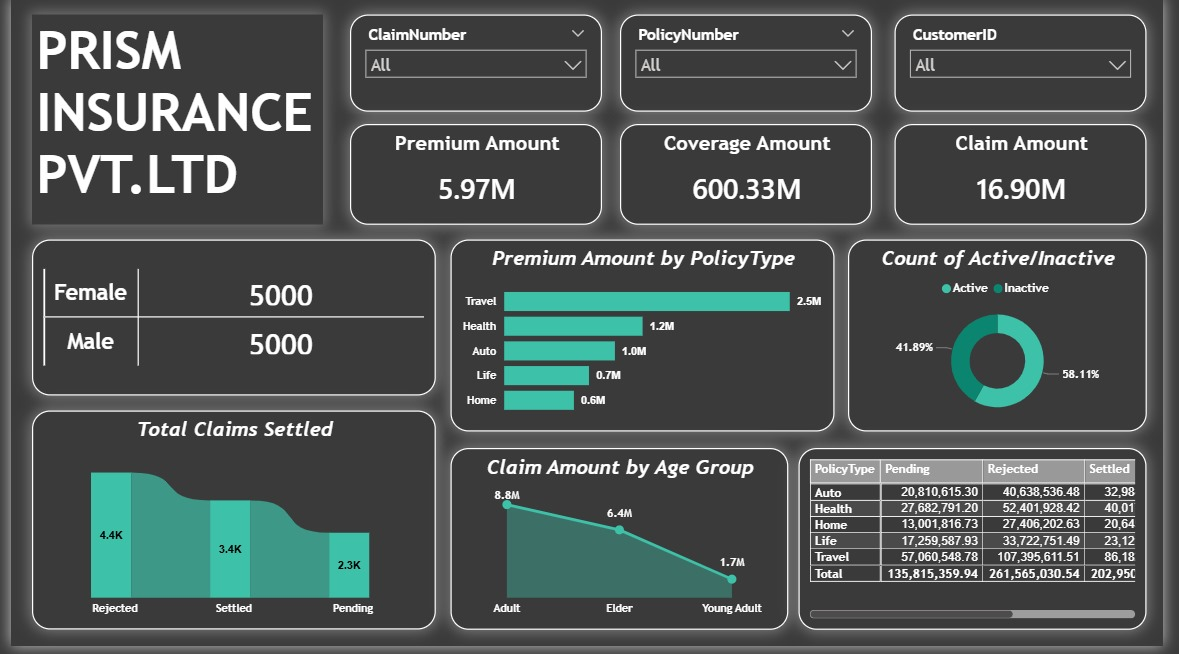

The dashboard page shown, as its layout file describes it:
{"tool":"powerbi","page":{"name":"Page 1","canvas":[1280,720],"ordinal":0},"visuals":[{"type":"slicer","fields":{"Values":["InsuranceData.CustomerID"]},"box":[982,18,280,108],"z":0},{"type":"slicer","fields":{"Values":["InsuranceData.ClaimNumber"]},"box":[376,18,280,108],"z":1},{"type":"slicer","fields":{"Values":["InsuranceData.PolicyNumber"]},"box":[676,18,280,108],"z":2},{"type":"textbox","box":[23.3,18.3,323.3,233.3],"z":3},{"type":"cardVisual","title":"Claim Amount","fields":{"Data":["Sum(InsuranceData.ClaimAmount)"]},"box":[981.7,140,280,111.7],"z":4},{"type":"cardVisual","title":"Coverage Amount","fields":{"Data":["Sum(InsuranceData.CoverageAmount)"]},"box":[676.7,140,280,111.7],"z":5},{"type":"cardVisual","title":"Premium Amount","fields":{"Data":["Sum(InsuranceData.PremiumAmount)"]},"box":[376.7,140,280,111.7],"z":6},{"type":"cardVisual","fields":{"Rows":["InsuranceData.Gender"],"Data":["CountNonNull(InsuranceData.Gender)"]},"box":[23.3,268.3,448.3,173.3],"z":7},{"type":"ribbonChart","title":"Total Claims Settled","fields":{"Category":["InsuranceData.ClaimStatus"],"Y":["CountNonNull(InsuranceData.ClaimStatus)"]},"box":[23.3,458.3,448.3,243.3],"z":8},{"type":"clusteredBarChart","title":"Premium Amount by PolicyType","fields":{"Y":["Sum(InsuranceData.PremiumAmount)"],"Category":["InsuranceData.PolicyType"]},"box":[488.3,268.3,426.7,213.3],"z":9},{"type":"lineChart","title":"Claim Amount by Age Group","fields":{"Category":["InsuranceData.Age Group"],"Y":["Sum(InsuranceData.ClaimAmount)"]},"box":[488.3,500,375,201.7],"z":10},{"type":"donutChart","title":"Count of Active/Inactive","fields":{"Category":["InsuranceData.Active/Inactive"],"Y":["CountNonNull(InsuranceData.Active/Inactive)"]},"box":[930,268.3,331.7,213.3],"z":11},{"type":"pivotTable","fields":{"Values":["Sum(InsuranceData.CoverageAmount)"],"Rows":["InsuranceData.PolicyType"],"Columns":["InsuranceData.ClaimStatus"]},"box":[875,500,386.7,201.7],"z":12}]}

Visuals, with their boxes in screenshot pixels (x1, y1, x2, y2), scaled from the page's 1280x720 canvas onto the 1179x654 screenshot:
slicer - InsuranceData.CustomerID: bbox=(905, 16, 1162, 114)
slicer - InsuranceData.ClaimNumber: bbox=(346, 16, 604, 114)
slicer - InsuranceData.PolicyNumber: bbox=(623, 16, 881, 114)
textbox: bbox=(21, 17, 319, 229)
"Claim Amount" cardVisual: bbox=(904, 127, 1162, 229)
"Coverage Amount" cardVisual: bbox=(623, 127, 881, 229)
"Premium Amount" cardVisual: bbox=(347, 127, 605, 229)
cardVisual - InsuranceData.Gender x CountNonNull(InsuranceData.Gender): bbox=(21, 244, 434, 401)
"Total Claims Settled" ribbonChart: bbox=(21, 416, 434, 637)
"Premium Amount by PolicyType" clusteredBarChart: bbox=(450, 244, 843, 437)
"Claim Amount by Age Group" lineChart: bbox=(450, 454, 795, 637)
"Count of Active/Inactive" donutChart: bbox=(857, 244, 1162, 437)
pivotTable - Sum(InsuranceData.CoverageAmount) x InsuranceData.PolicyType: bbox=(806, 454, 1162, 637)
